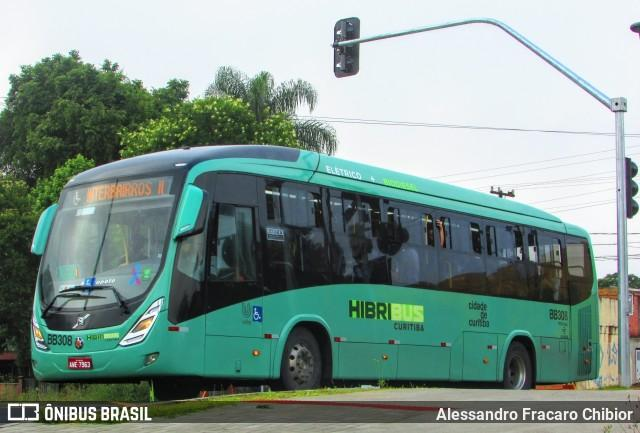INTERBAIRROS II: (83, 175, 169, 208)
